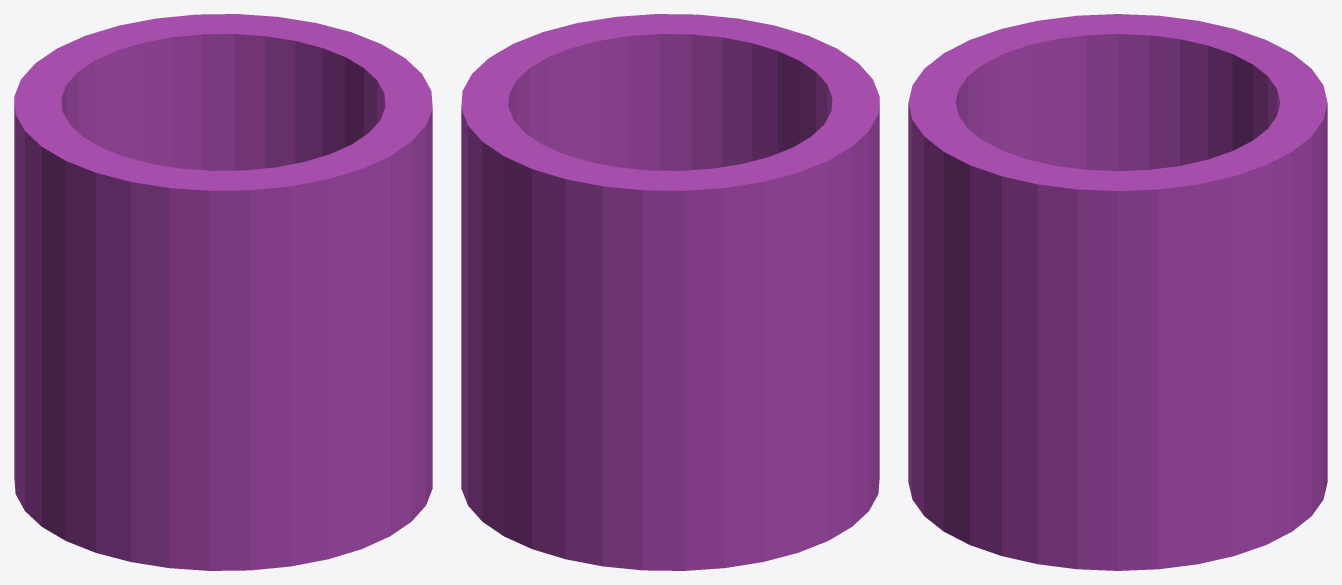
File: CoffeCup_Empty.fbx
3 views of the same model, side by side, from view 1: azimuth 30°, elevation 25°; view 2: azimuth 150°, elevation 25°; view 3: azimuth 270°, elevation 25° (orthographic).
Visible parts, largest first — view 1: CoffeCup_empty; view 2: CoffeCup_empty; view 3: CoffeCup_empty.
Part boxes in pixels (x1,y1,x2,y2): CoffeCup_empty: [14, 14, 432, 570]; CoffeCup_empty: [461, 14, 879, 570]; CoffeCup_empty: [908, 14, 1327, 570].
Size of the model in its own units: 10 by 10 by 10.
1 material, 1 textured.
